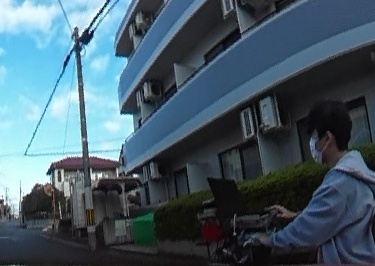person: (255, 100, 374, 266)
